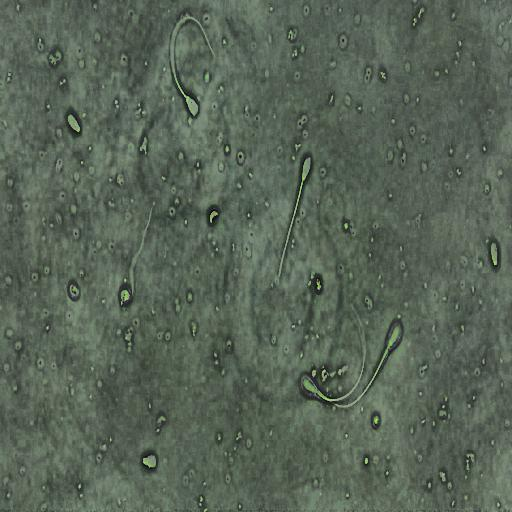dirt-particles: (314, 274, 324, 295), (208, 207, 219, 226)
loose-head: (65, 110, 82, 135), (141, 452, 158, 472), (489, 239, 499, 268)
normal: (323, 318, 404, 410), (166, 12, 219, 122), (275, 153, 313, 283)
